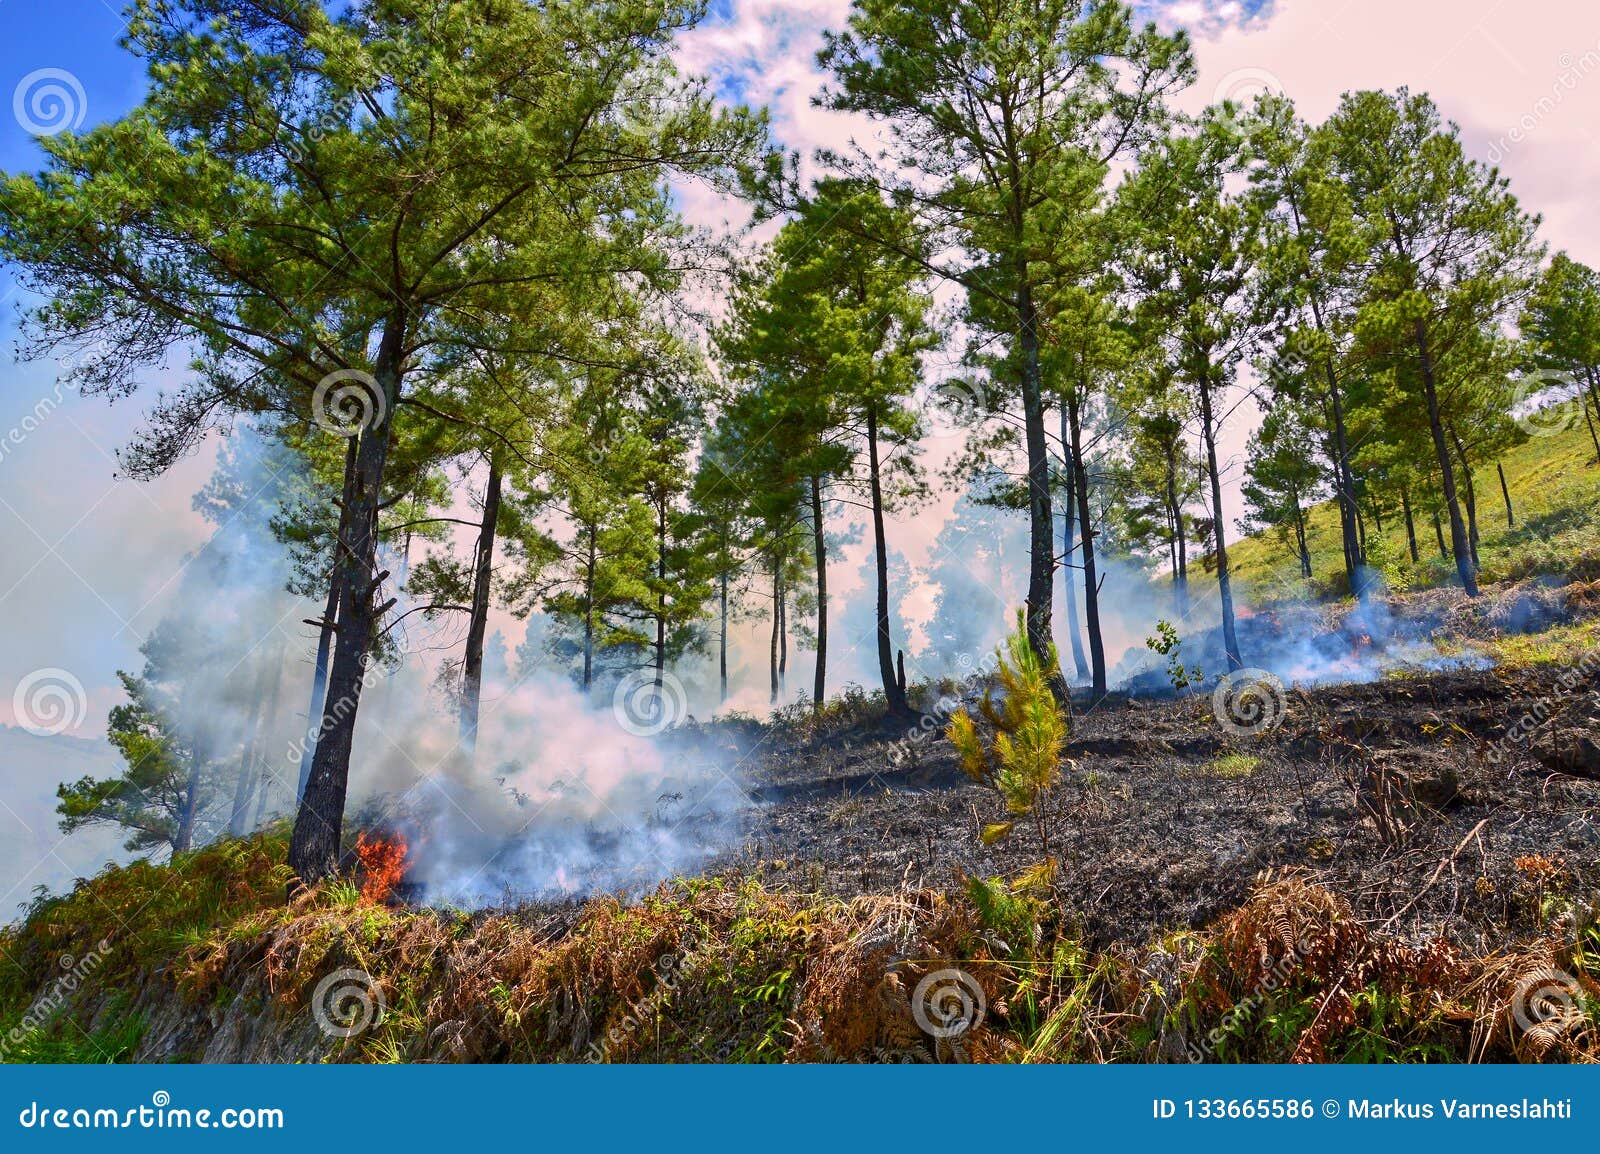fire: (354, 703, 871, 842), (225, 789, 535, 942), (1206, 566, 1499, 694)
